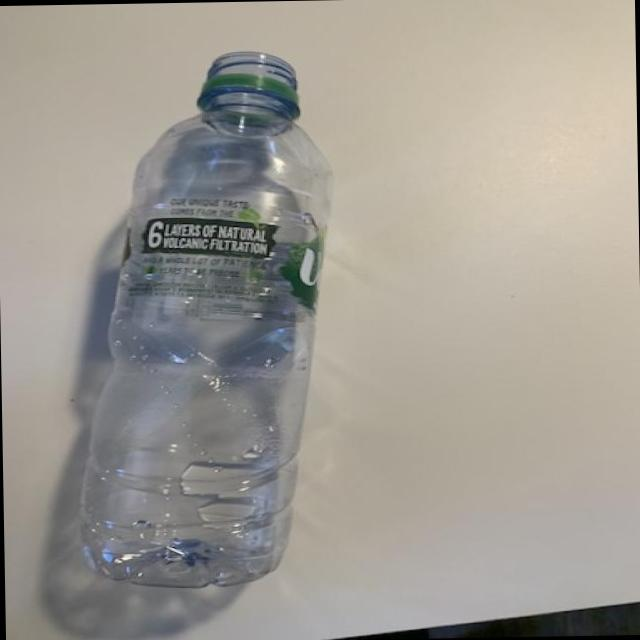plastic_bottle: (67, 49, 340, 592)
